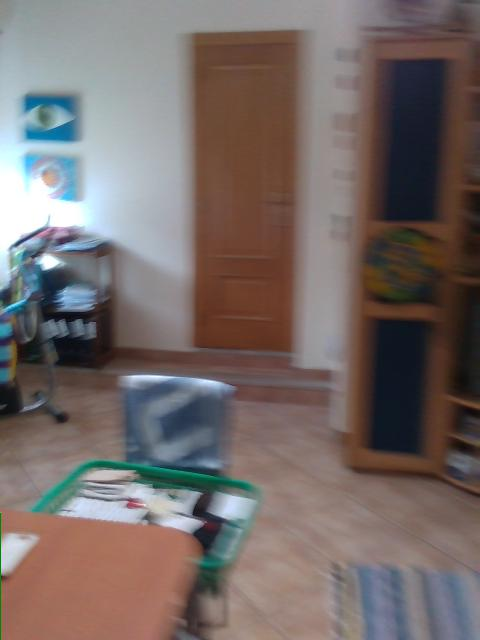door: (191, 32, 308, 351)
